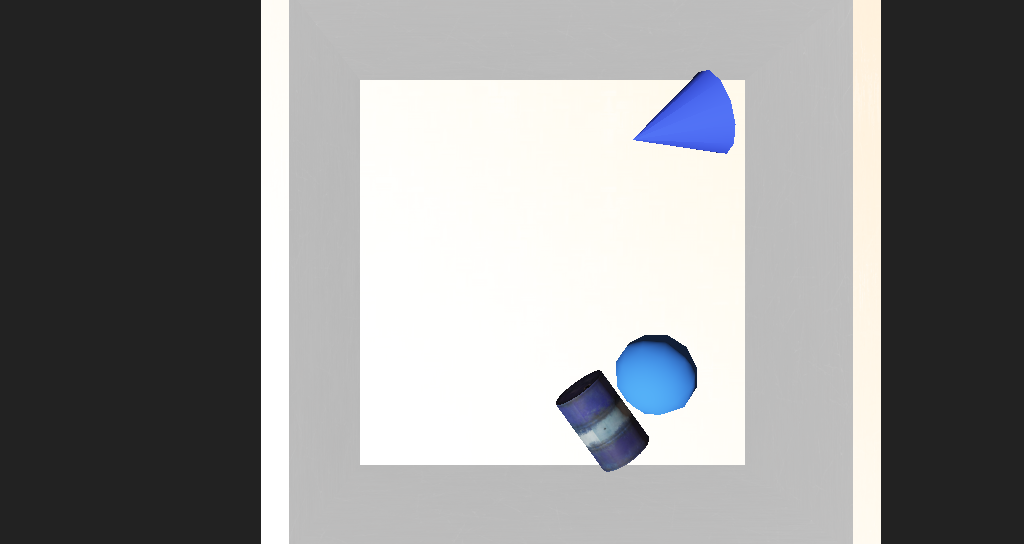cone: (509, 322, 583, 384)
cylinder: (546, 160, 640, 222)
sphere: (556, 303, 616, 346)
